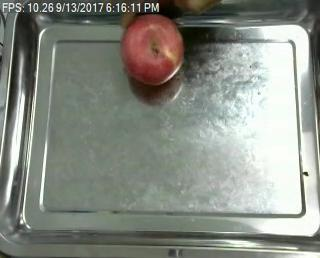apple: (123, 15, 184, 85)
